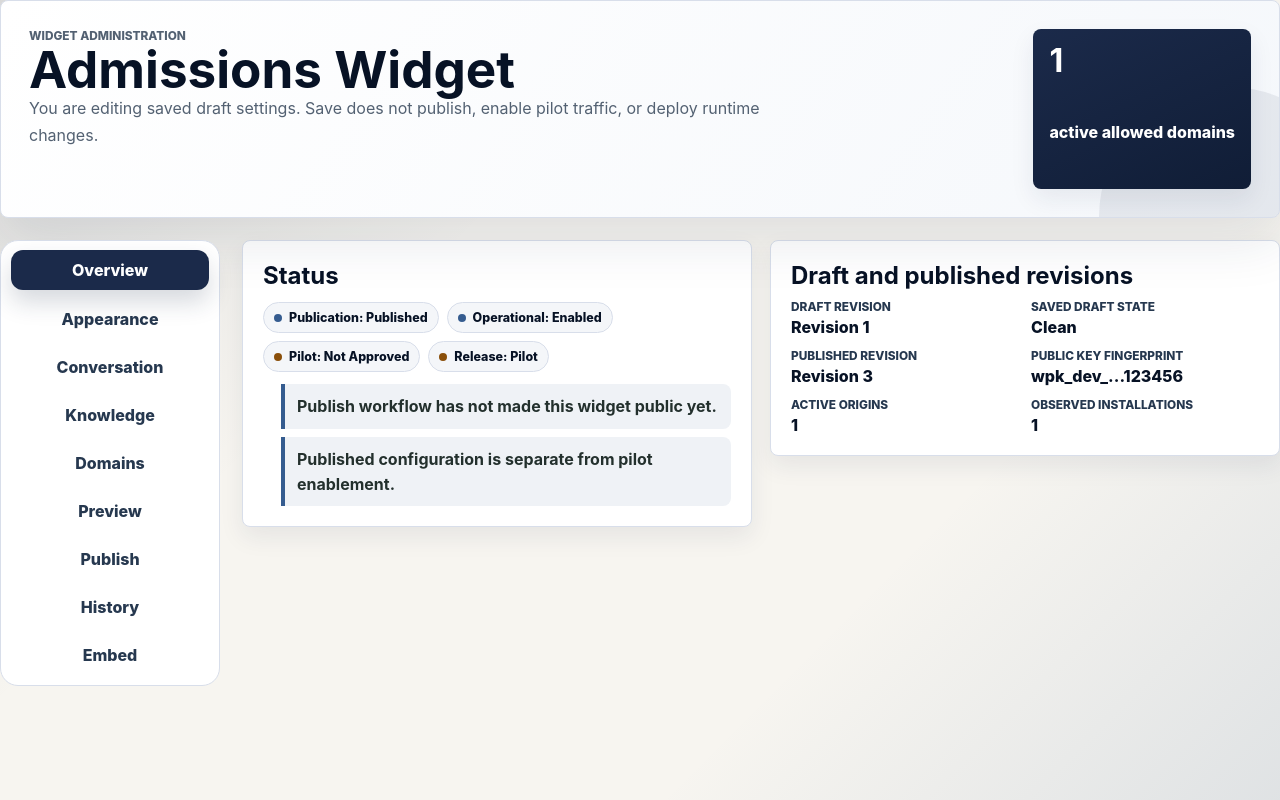
widget administration frontend › views revision history and confirms rollback without rewriting history
The width and height of the screenshot is (1280, 800).
What coordinates should you click on to do the following:
click the tab "History"
I would click on:
 (110, 607)
Its box is [11, 587, 209, 627].
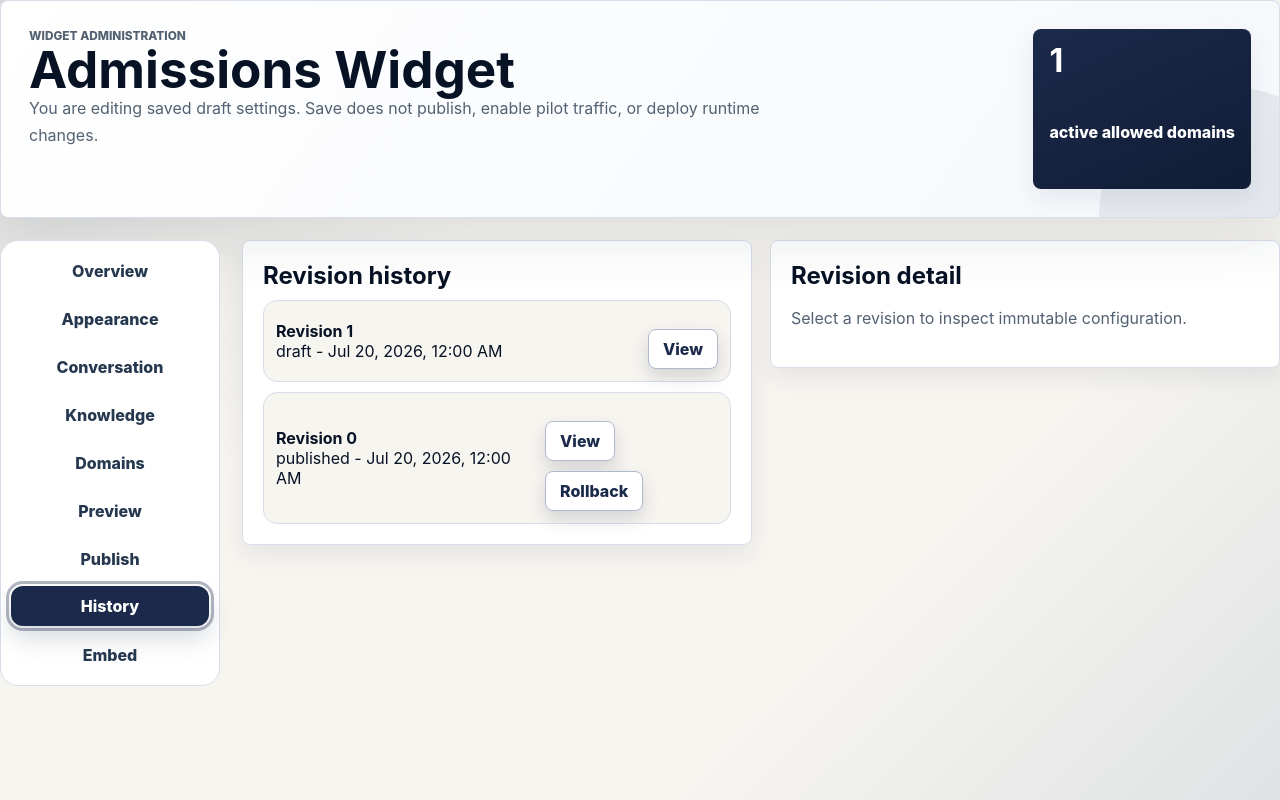
What coordinates should you click on to do the following:
click the button "View" in the row of "published"
I would click on:
 (580, 441)
Its box is [545, 421, 615, 461].
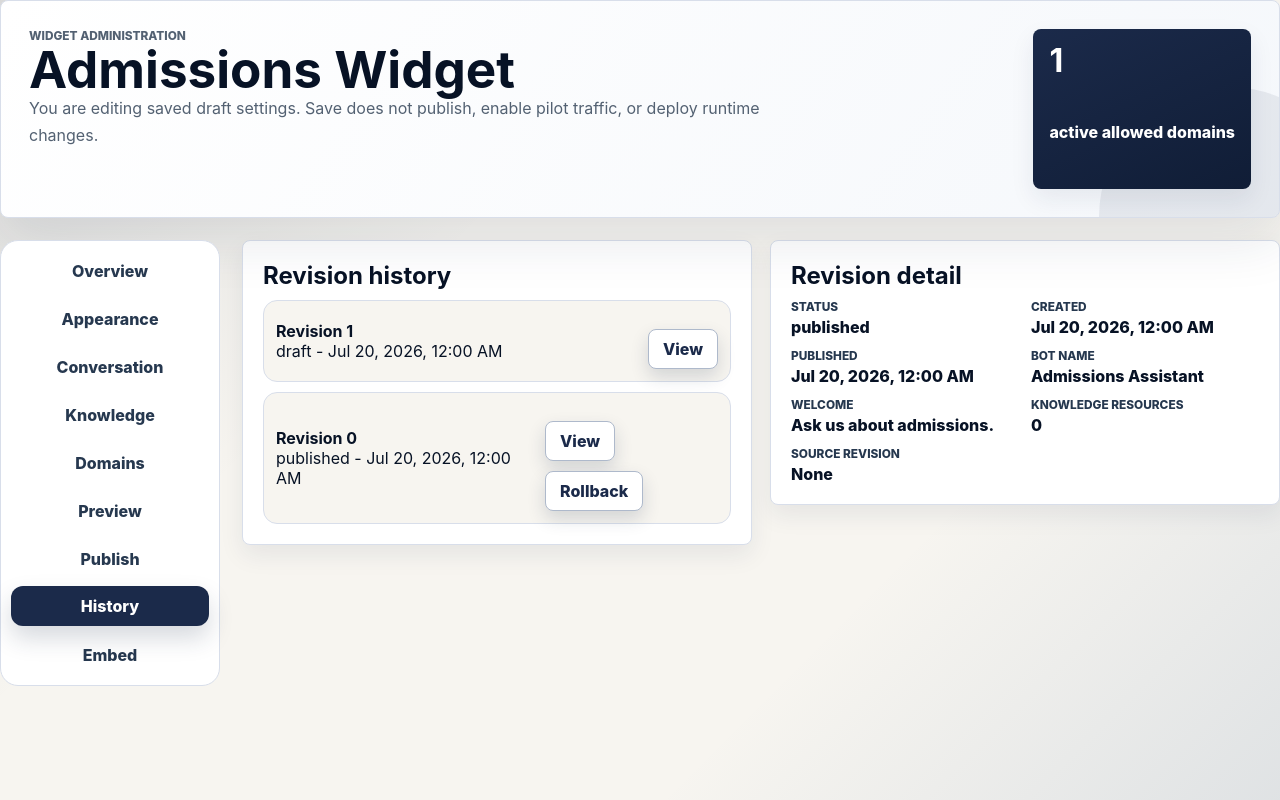
Now the text "Admissions Assistant" is shown, box [1031, 366, 1204, 386]
What coordinates should you click on to do the following:
click the button "Rollback"
I would click on:
 (594, 491)
Its box is [545, 471, 643, 511].
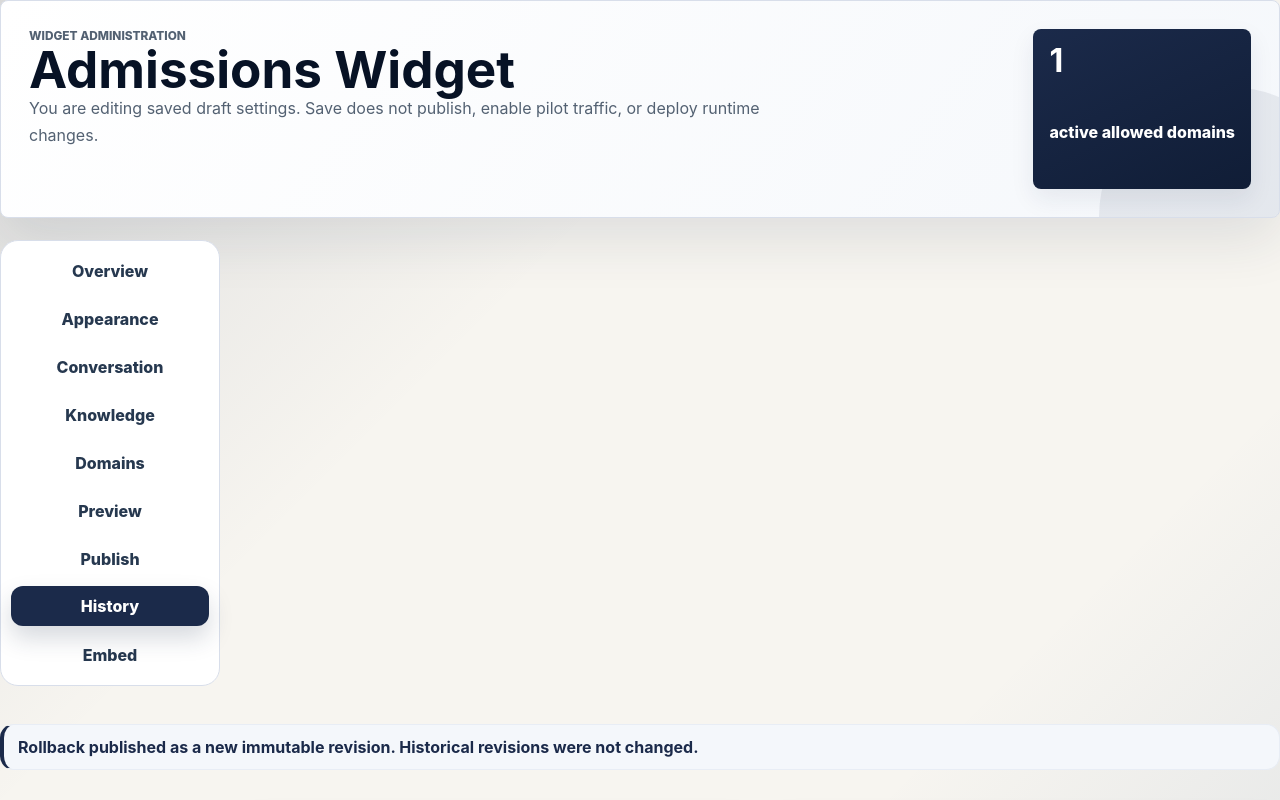
Now the text "Rollback published as a new immutable revision. Historical revisions were not changed." is shown, box [18, 737, 698, 757]
